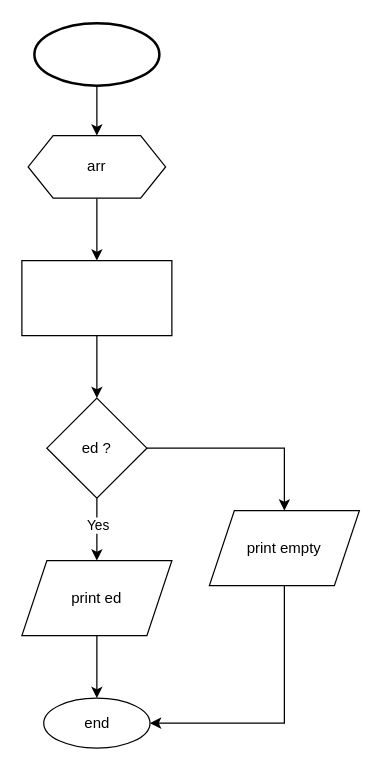
Some shapes in this 381 by 770 pixel diagram are drawn without their labels. Here are the shapes that lost their labels. From the top down, the box of each, then its label:
(32, 21, 160, 86): start
(21, 259, 172, 336): ed = pop(arr)
